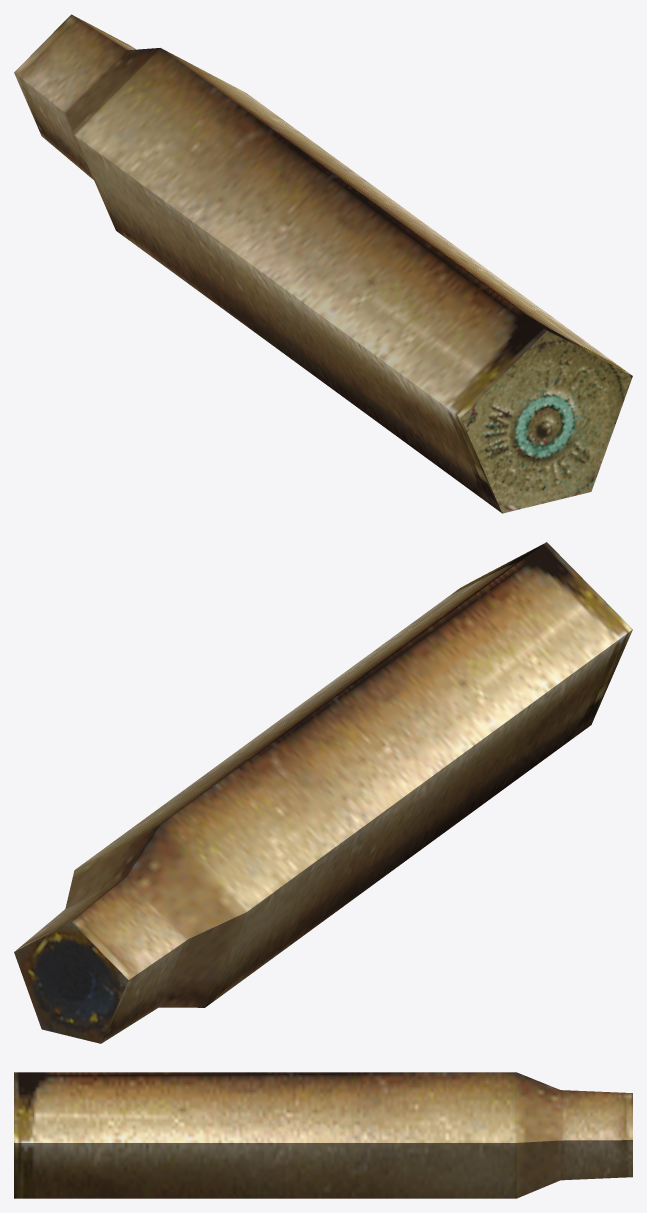
The model's file is casing30cal.glb.
The picture shows the model from 3 angles, top to bottom: view 1: azimuth 30°, elevation 25°; view 2: azimuth 150°, elevation 25°; view 3: azimuth 270°, elevation 25°; orthographic projection. The views are drawn at different scales.
Parts seen in each view (by area): view 1: Rifle big spent; view 2: Rifle big spent; view 3: Rifle big spent.
Boxes of the visible parts, <box> form: Rifle big spent: <box>14,14,632,513</box>; Rifle big spent: <box>14,542,632,1043</box>; Rifle big spent: <box>14,1072,632,1198</box>.
Bounding box in the file's own units: 0.0648 × 0.0619 × 0.3101.
1 material, 1 textured.
